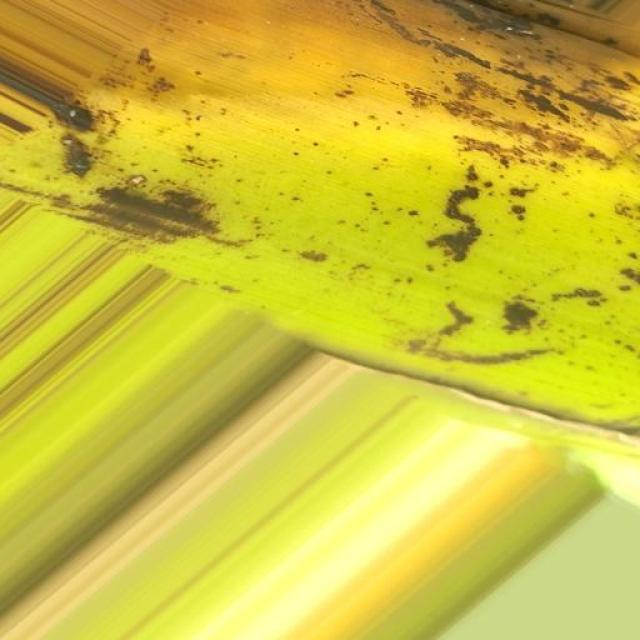Anthracnose: (0, 15, 640, 383)
